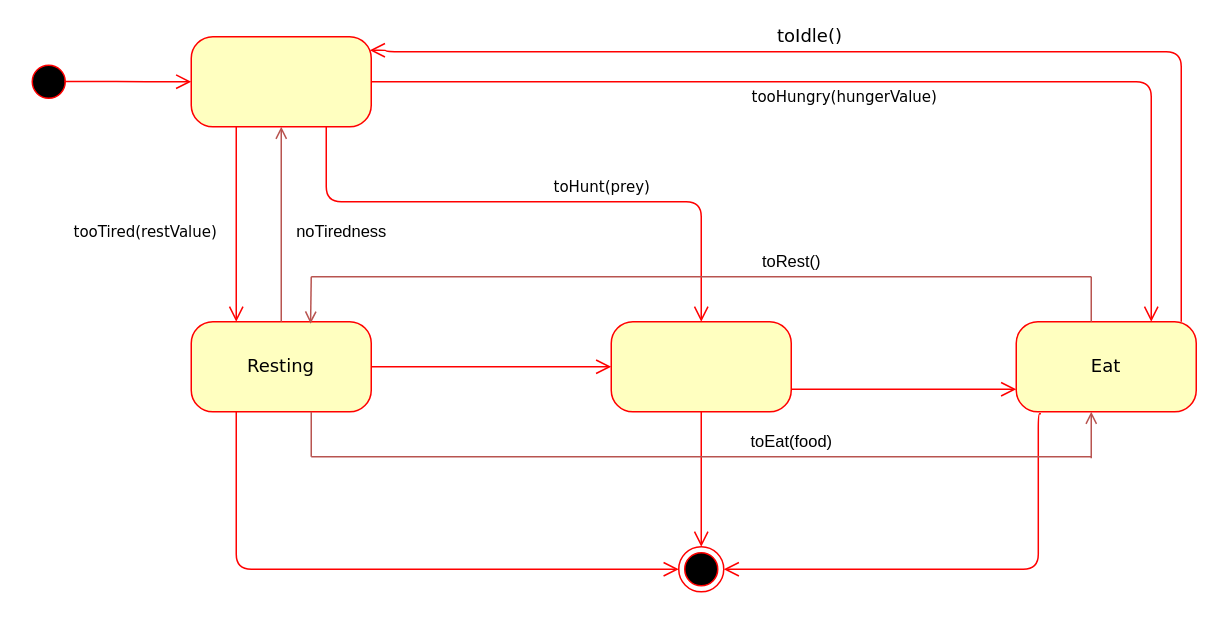
Some shapes in this 1223 by 618 pixel diagram are drawn without their labels. The centre of each missing label's shape, as x and y in pixels:
"Hunting" goes at point (700, 366).
"Idle" goes at point (280, 81).
